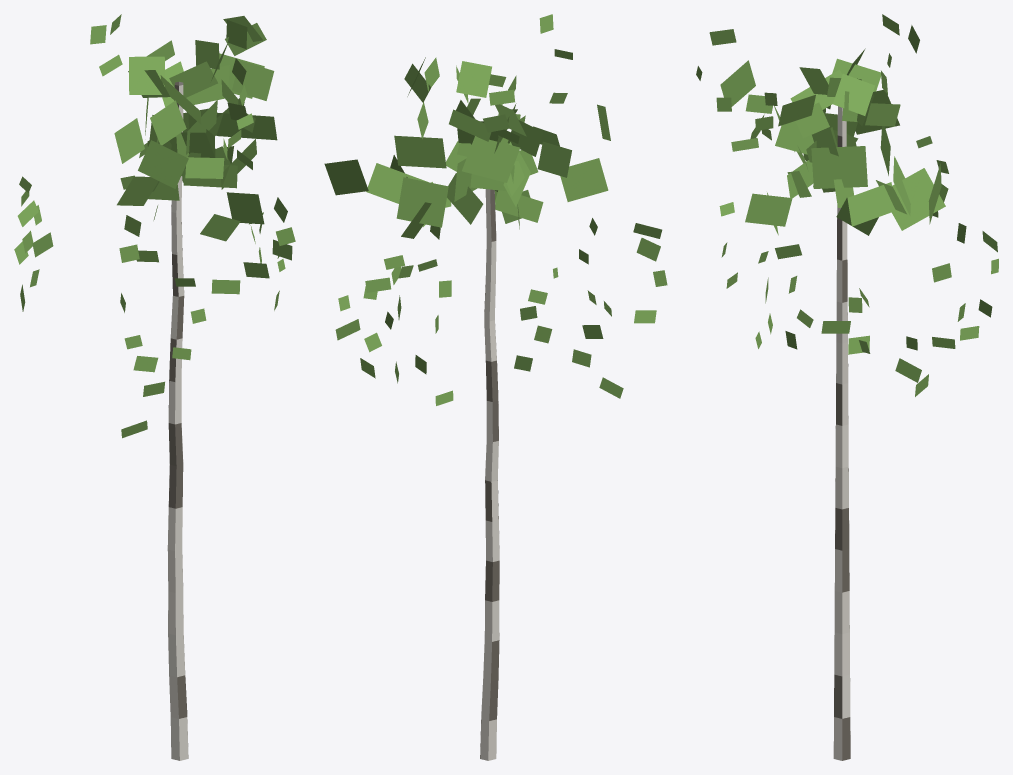
Rendered from birch_tree.glb.
3 renders of one model, left to right at view 1: azimuth 30°, elevation 25°; view 2: azimuth 150°, elevation 25°; view 3: azimuth 270°, elevation 25°, orthographic. The views are drawn at different scales.
Visible parts, largest first — view 1: BirchTree; view 2: BirchTree; view 3: BirchTree.
Boxes of the visible parts, bbox=[...] form: BirchTree: bbox=[14, 14, 295, 760]; BirchTree: bbox=[324, 14, 667, 760]; BirchTree: bbox=[696, 14, 998, 760].
Size of the model in its own units: 2.82 by 6.59 by 2.48.
